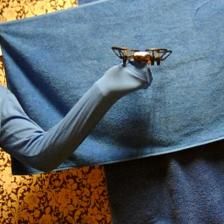drone: (111, 45, 173, 68)
